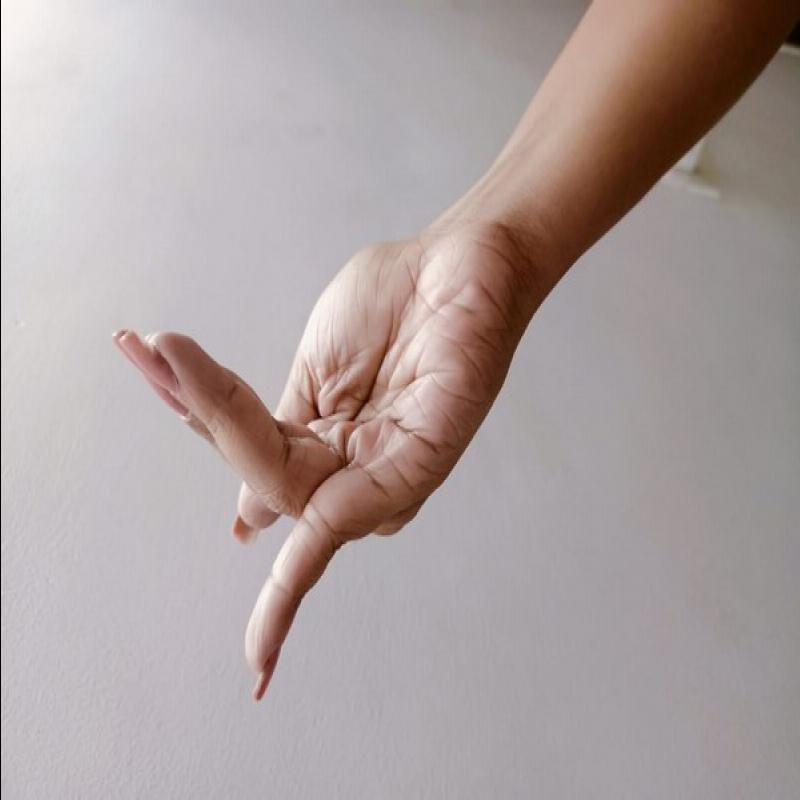Kartharee Mukham: (91, 212, 529, 705)
